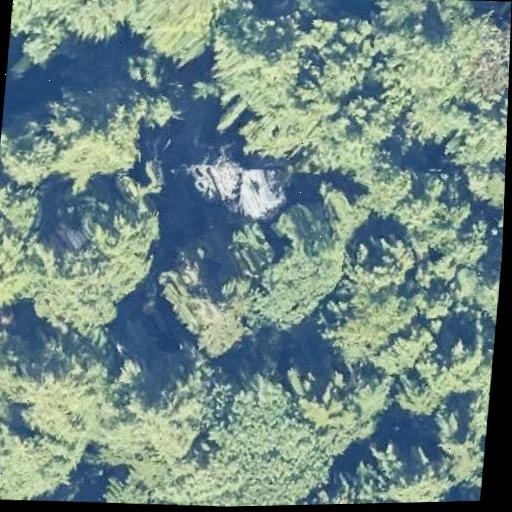tree-top: (20, 182, 170, 337), (218, 182, 363, 335), (91, 330, 220, 472), (209, 374, 339, 506), (364, 215, 494, 330), (369, 23, 481, 150), (34, 76, 158, 186), (0, 352, 123, 456), (150, 241, 252, 362), (200, 9, 313, 115), (112, 454, 292, 509), (302, 358, 400, 458), (108, 0, 248, 68), (6, 0, 129, 70), (388, 155, 488, 241), (0, 168, 60, 311), (300, 5, 382, 102), (321, 276, 415, 360), (391, 339, 485, 416), (0, 415, 81, 503), (359, 444, 462, 504), (442, 16, 511, 104), (346, 140, 421, 220), (176, 129, 245, 211), (0, 110, 64, 187), (445, 100, 508, 164), (228, 161, 292, 223), (373, 0, 481, 31), (459, 158, 506, 215), (0, 296, 16, 436)
